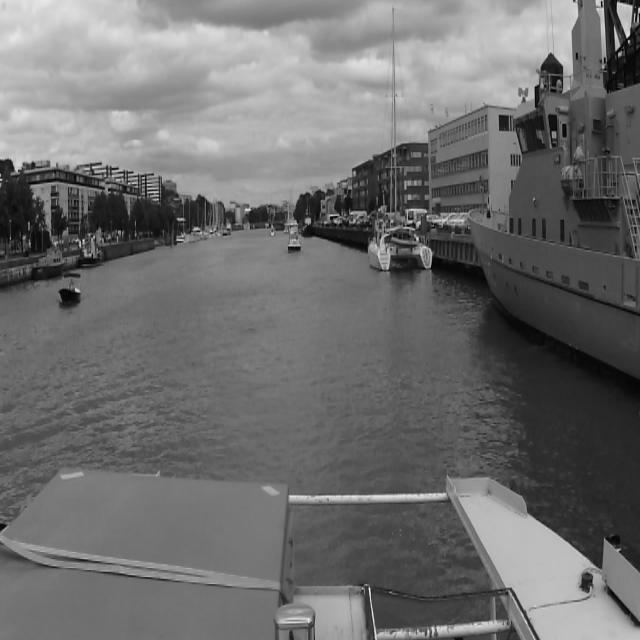ship: (469, 8, 635, 386), (370, 7, 432, 268), (33, 243, 67, 281), (60, 272, 84, 306), (82, 234, 104, 268), (288, 226, 302, 252), (223, 228, 231, 236), (271, 228, 275, 238)
